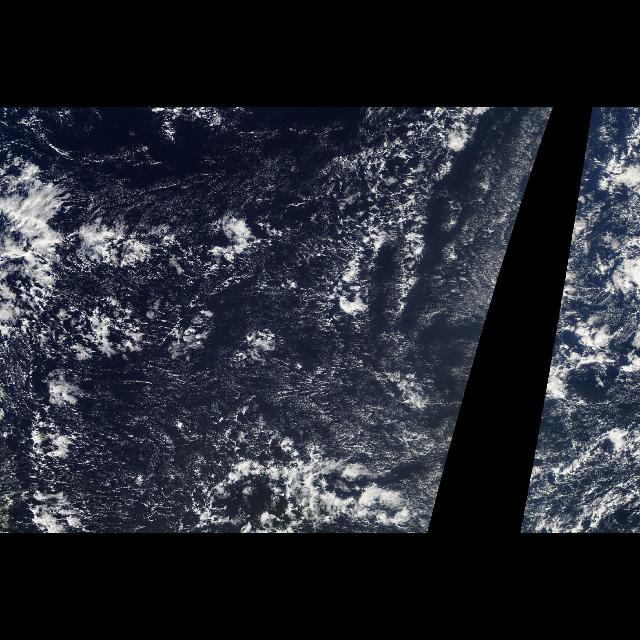Gravel: (4, 267, 306, 533)
Sugar: (54, 115, 422, 225), (432, 111, 546, 412)
